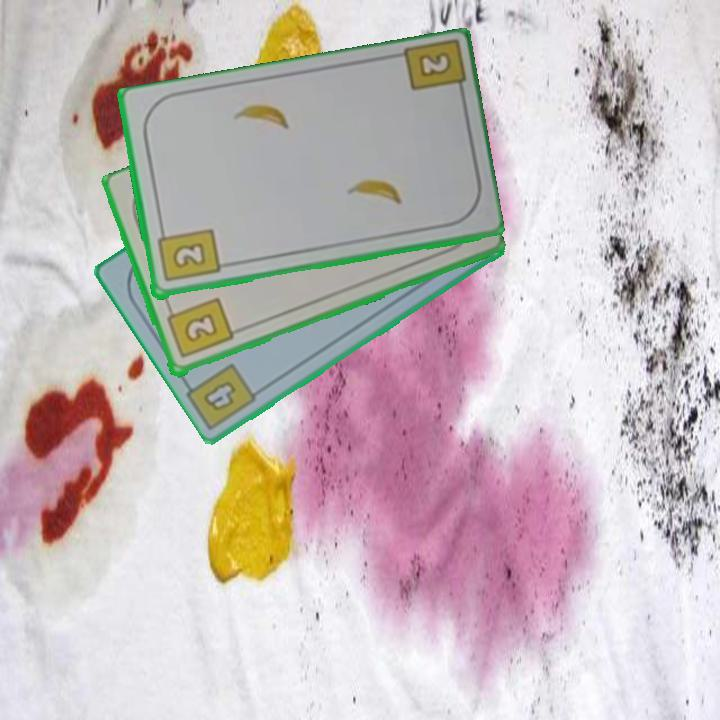2b: (163, 294, 236, 362), (154, 224, 222, 285), (414, 48, 454, 81)
4b: (199, 377, 239, 415)
